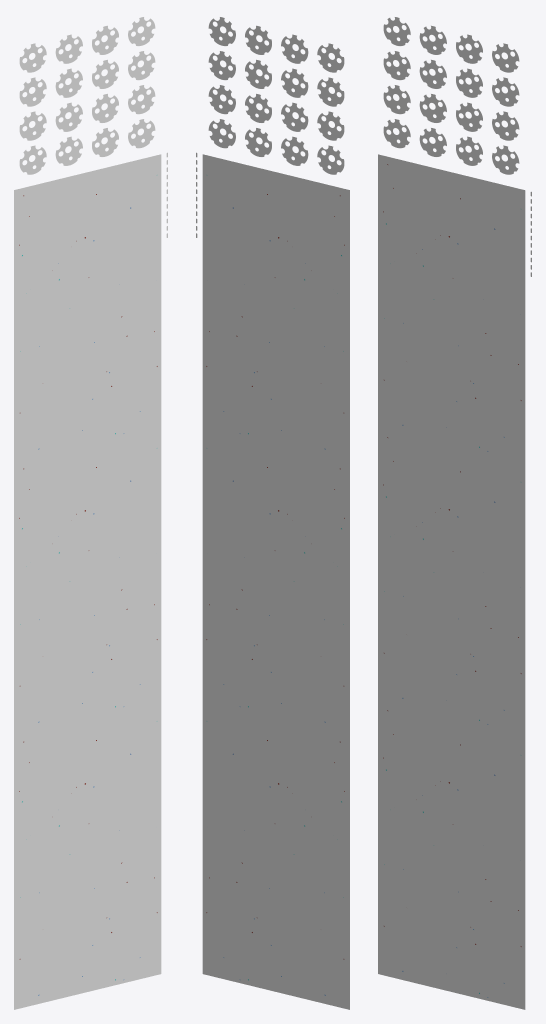
3 renders of one model, left to right at view 1: azimuth 30°, elevation 25°; view 2: azimuth 150°, elevation 25°; view 3: azimuth 330°, elevation 25°, orthographic.
Visible parts, largest first — view 1: AnNode42, AnNode43, AnNode44, AnNode31, AnNode27, AnNode35, AnNode39, AnNode38, AnNode25, AnNode34, AnNode28, AnNode29 (+7 smaller); view 2: AnNode42, AnNode43, AnNode44, AnNode31, AnNode27, AnNode35, AnNode39, AnNode38, AnNode25, AnNode34, AnNode28, AnNode29 (+7 smaller); view 3: AnNode43, AnNode42, AnNode44, AnNode26, AnNode30, AnNode29, AnNode34, AnNode35, AnNode38, AnNode39, AnNode25, AnNode27 (+7 smaller).
Boxes of the visible parts, x1,y1,x2,y2 form: AnNode42: [14, 700, 161, 1009]; AnNode43: [14, 427, 161, 736]; AnNode44: [14, 154, 161, 463]; AnNode31: [55, 102, 82, 131]; AnNode27: [55, 136, 82, 165]; AnNode35: [55, 68, 82, 97]; AnNode39: [55, 34, 82, 63]; AnNode38: [92, 25, 118, 54]; AnNode25: [128, 119, 155, 148]; AnNode34: [92, 59, 118, 88]; AnNode28: [19, 145, 46, 174]; AnNode29: [128, 85, 155, 114]; AnNode42: [202, 700, 349, 1009]; AnNode43: [202, 427, 349, 736]; AnNode44: [202, 154, 349, 463]; AnNode31: [281, 102, 308, 131]; AnNode27: [281, 136, 308, 165]; AnNode35: [281, 68, 308, 97]; AnNode39: [281, 34, 308, 63]; AnNode38: [245, 25, 271, 54]; AnNode25: [208, 119, 235, 148]; AnNode34: [245, 59, 271, 88]; AnNode28: [317, 145, 344, 174]; AnNode29: [208, 85, 235, 114]; AnNode43: [378, 427, 525, 736]; AnNode42: [378, 700, 525, 1009]; AnNode44: [378, 154, 525, 462]; AnNode26: [456, 136, 482, 165]; AnNode30: [456, 102, 482, 131]; AnNode29: [492, 111, 519, 140]; AnNode34: [456, 68, 482, 97]; AnNode35: [419, 59, 446, 88]; AnNode38: [456, 34, 482, 63]; AnNode39: [419, 25, 446, 54]; AnNode25: [492, 145, 519, 174]; AnNode27: [419, 128, 446, 156].
Size of what is drawn, in the model's own units: 566 by 3380 by 0.
10 materials, 10 textured.
